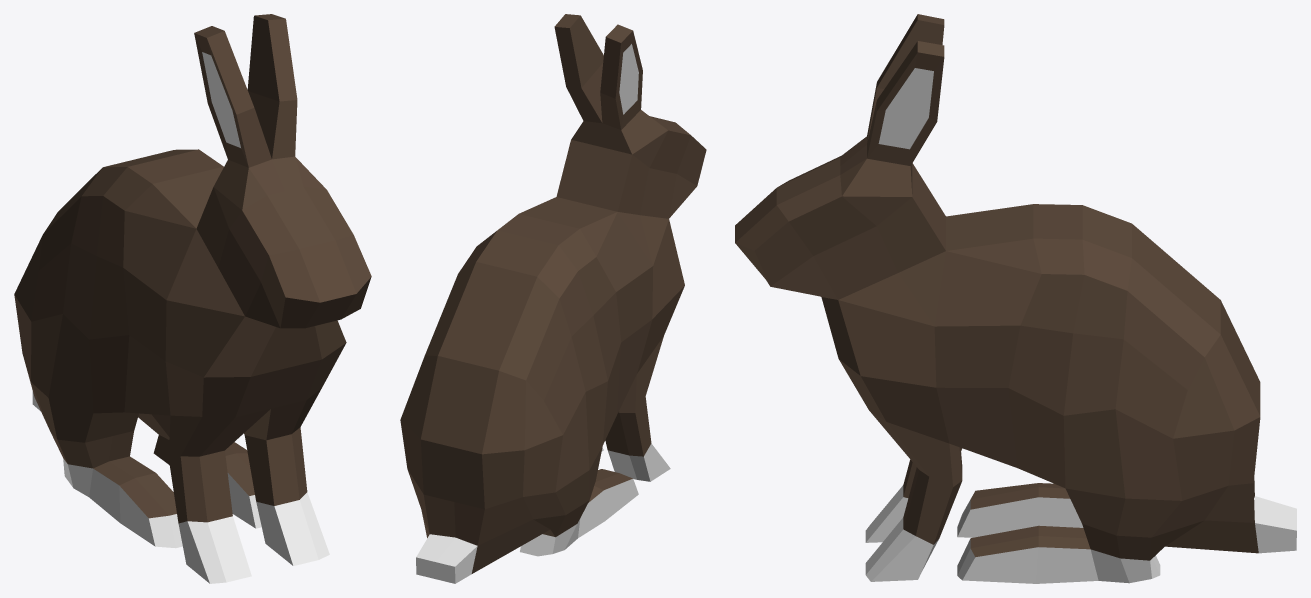
File: rabbit.glb
3 renders of one model, left to right at view 1: azimuth 30°, elevation 25°; view 2: azimuth 150°, elevation 25°; view 3: azimuth 270°, elevation 25°, orthographic. The views are drawn at different scales.
Visible parts, largest first — view 1: rabbit; view 2: rabbit; view 3: rabbit.
Part boxes in pixels (<box>): rabbit: <box>14,14,371,583</box>; rabbit: <box>400,14,706,583</box>; rabbit: <box>735,14,1296,583</box>.
Bounding box in the file's own units: 0.2417 × 0.6549 × 0.6357.
